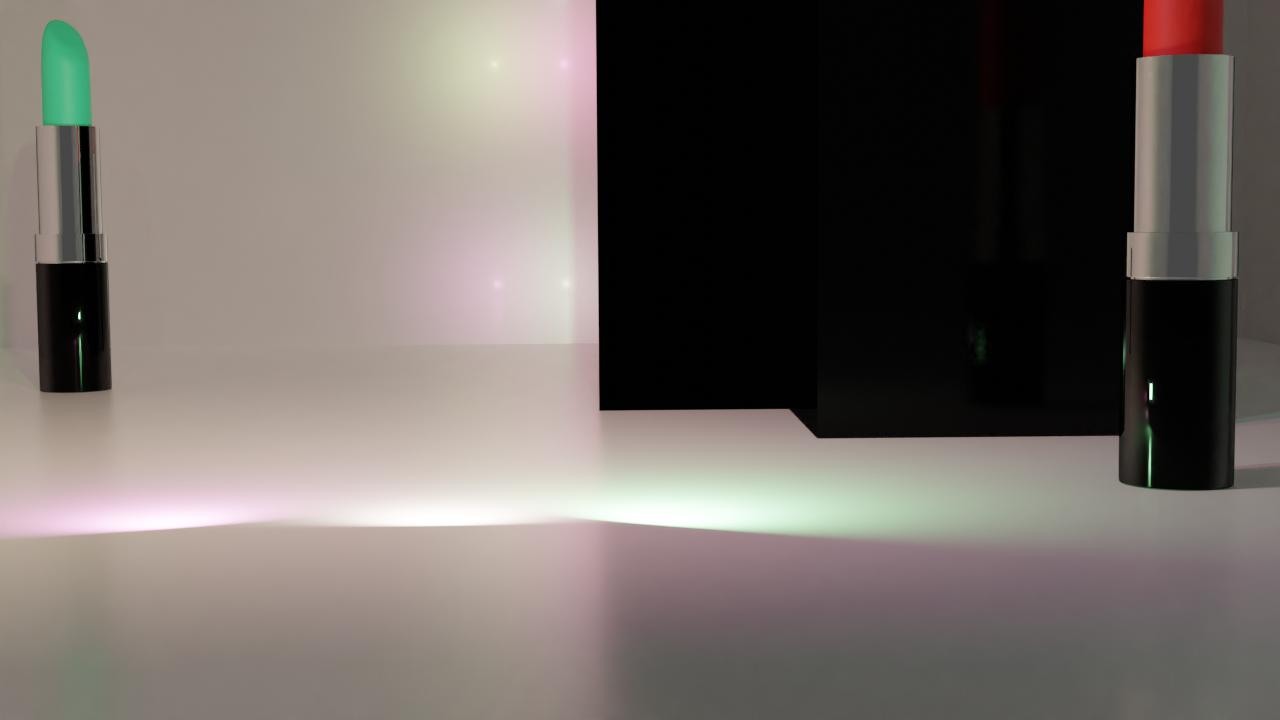CLASSIFIER_NAME: (1116, 0, 1242, 490), (33, 15, 114, 392)
